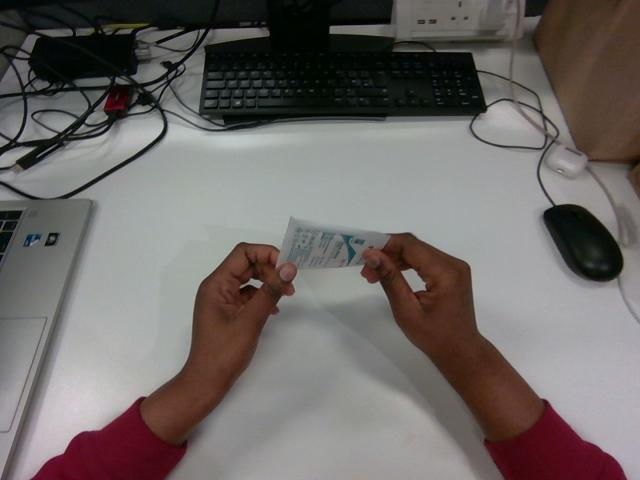gauze: (277, 217, 389, 269)
